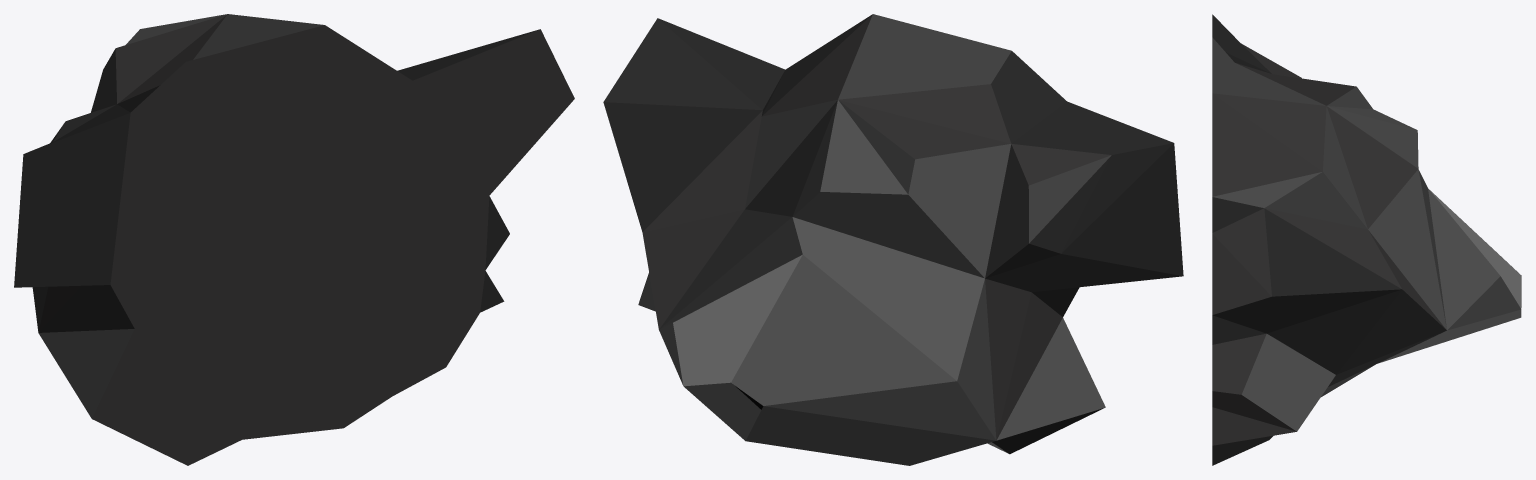
File: volcano_mountain_1.fbx
3 views of the same model, side by side, from view 1: azimuth 30°, elevation 25°; view 2: azimuth 150°, elevation 25°; view 3: azimuth 270°, elevation 25° (orthographic). The views are drawn at different scales.
Parts seen in each view (by area): view 1: Cylinder.006; view 2: Cylinder.006; view 3: Cylinder.006.
Part boxes in pixels (x1,y1,x2,y2): Cylinder.006: (14,14,574,465); Cylinder.006: (603,14,1183,465); Cylinder.006: (1212,14,1521,465).
Bounding box in the file's own units: 1570 × 1091 × 868.
